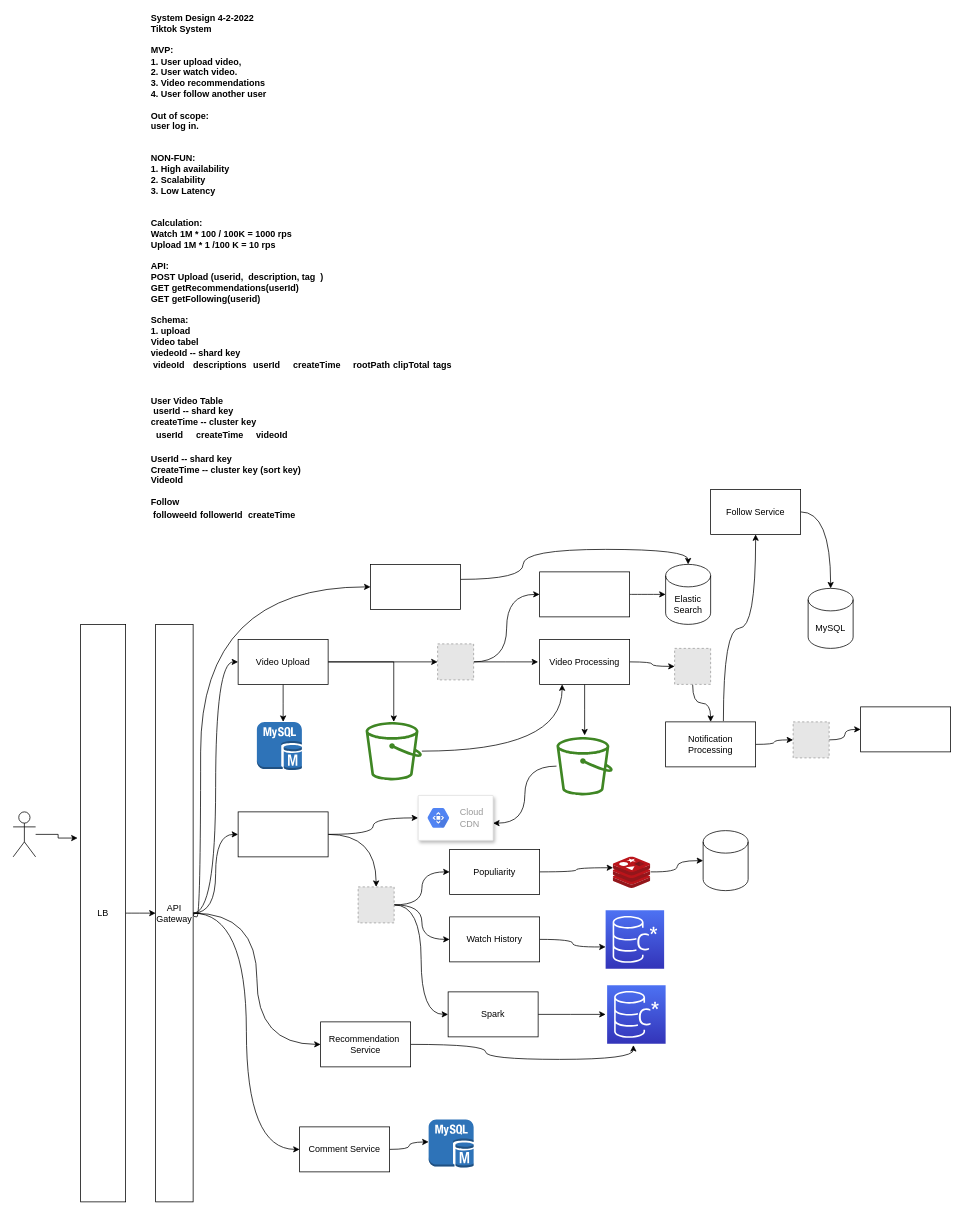
Image size: 964x1215. Some labels were removed from this diagram. Grey dashed boxes stand in for pictures. Here are the shapes that lost their labels. From the top down, the centre of each, then its label:
(x=415, y=586): Search Service
(x=584, y=594): Search Processing
(x=905, y=729): Notification Service
(x=24, y=834): Actor
(x=282, y=834): Watch Video
(x=725, y=860): Dynamo DB
